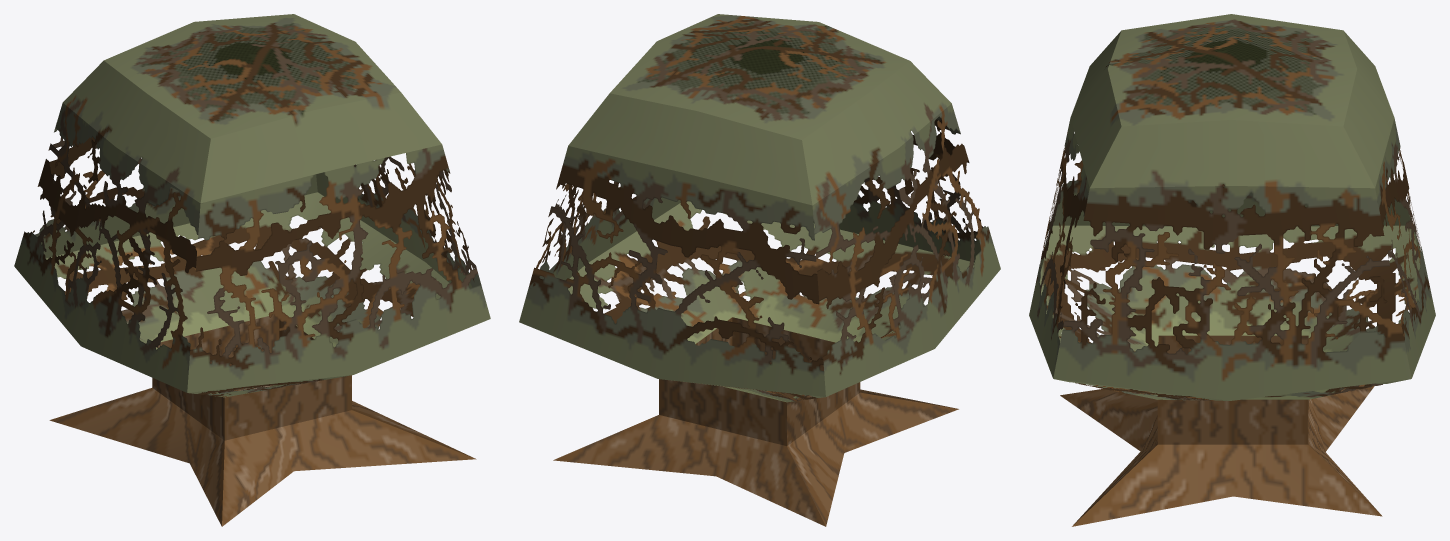
File: thorn bush.fbx
3 renders of one model, left to right at view 1: azimuth 30°, elevation 25°; view 2: azimuth 150°, elevation 25°; view 3: azimuth 270°, elevation 25°, orthographic. The views are drawn at different scales.
Visible parts, largest first — view 1: pPlane1; view 2: pPlane1; view 3: pPlane1.
Part boxes in pixels (x1,y1,x2,y2): pPlane1: (14,14,490,526); pPlane1: (519,14,1000,526); pPlane1: (1029,14,1435,526).
Bounding box in the file's own units: 1.47 × 1.58 × 1.45.
Materials: 1 (1 with a texture image).
